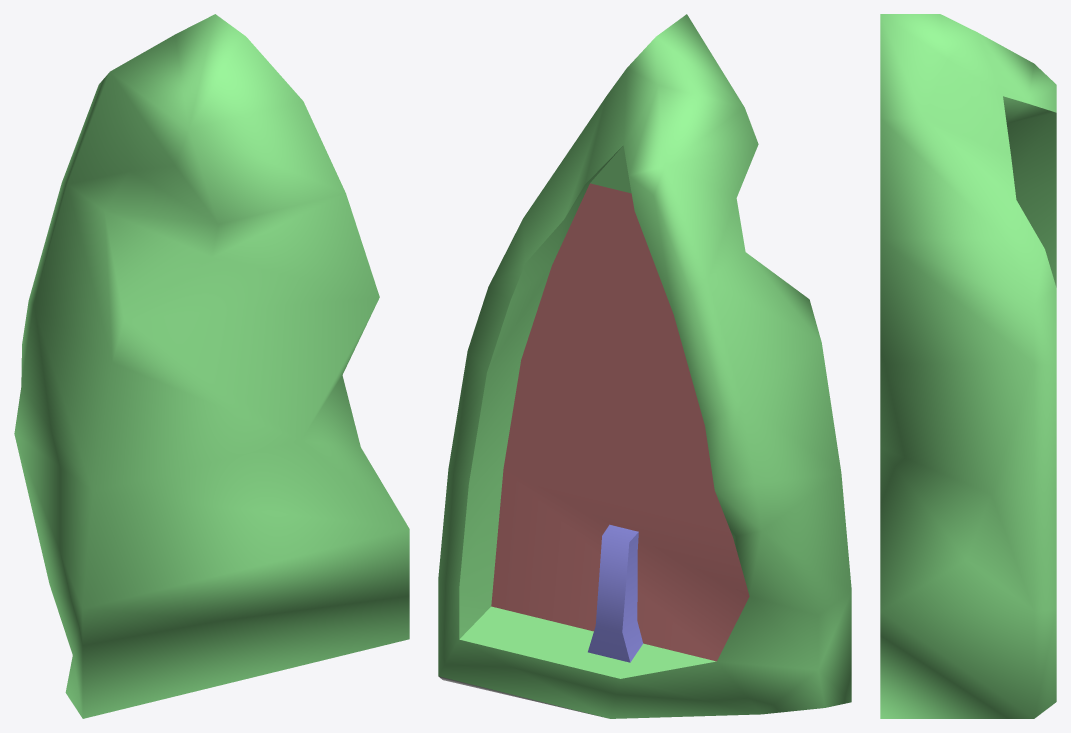
The model's file is skruins_arch02.gltf.
3 views of the same model, side by side, from view 1: azimuth 30°, elevation 25°; view 2: azimuth 150°, elevation 25°; view 3: azimuth 270°, elevation 25° (orthographic). The views are drawn at different scales.
Parts seen in each view (by area): view 1: skruins_arch02; view 2: skruins_arch02; view 3: skruins_arch02.
Boxes of the visible parts, <box> form: skruins_arch02: <box>14,14,409,718</box>; skruins_arch02: <box>438,14,851,718</box>; skruins_arch02: <box>880,14,1056,718</box>.
Bounding box in the file's own units: 1.33 × 2.5 × 0.6361.
